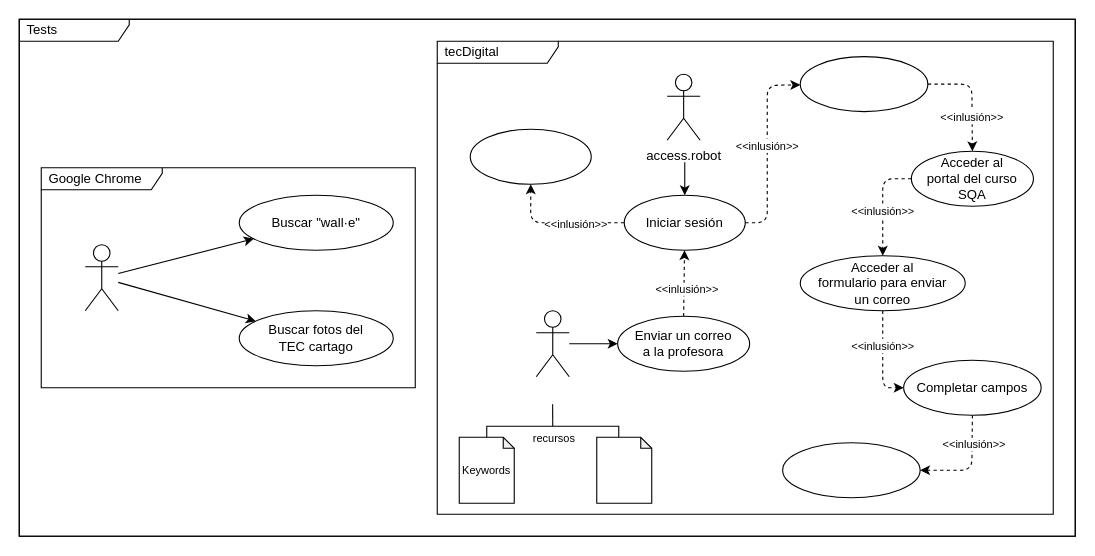
Some shapes in this 1095 by 556 pixel diagram are drawn without their labels. Each missing label, with the box of its shape:
Cerrar sesión: (469, 128, 591, 184)
Desplegar cursos: (799, 56, 928, 112)
email.robot: (535, 310, 569, 377)
Enviar correo: (782, 442, 920, 498)
search.robot: (84, 244, 118, 311)
Variables: (596, 436, 652, 503)
